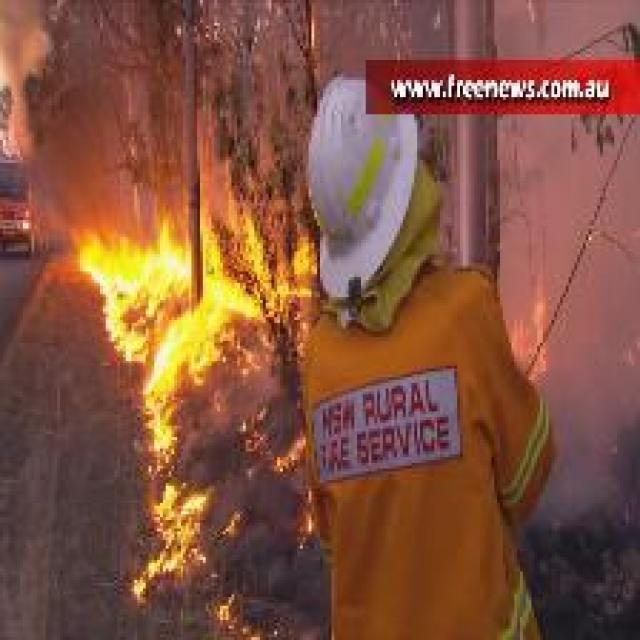Fire: (77, 214, 314, 457), (132, 480, 208, 606)
